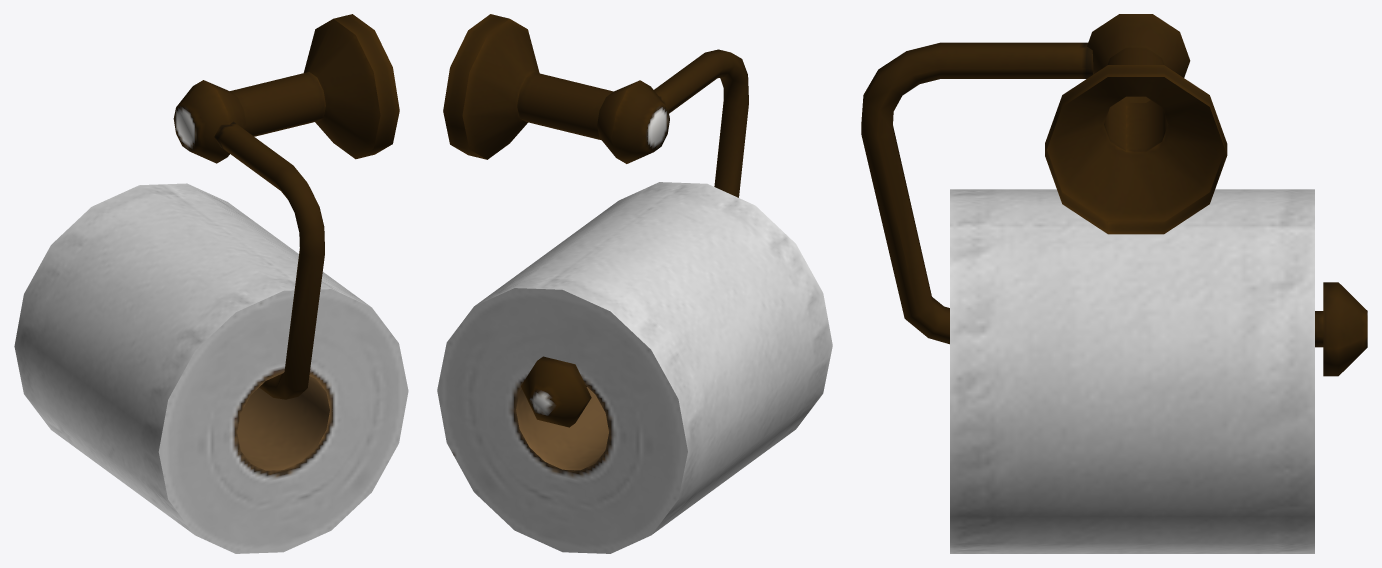
The model's file is ToiletPaper.FBX.
3 views of the same model, side by side, from view 1: azimuth 30°, elevation 25°; view 2: azimuth 150°, elevation 25°; view 3: azimuth 270°, elevation 25° (orthographic). The views are drawn at different scales.
Parts seen in each view (by area): view 1: ToiletPaper; view 2: ToiletPaper; view 3: ToiletPaper.
Part boxes in pixels (left/top/right/bottom): ToiletPaper: left=14, top=14, right=408, bottom=553; ToiletPaper: left=437, top=14, right=832, bottom=553; ToiletPaper: left=861, top=14, right=1367, bottom=553.
Bounding box in the file's own units: 13.38 × 20.14 × 16.66.
